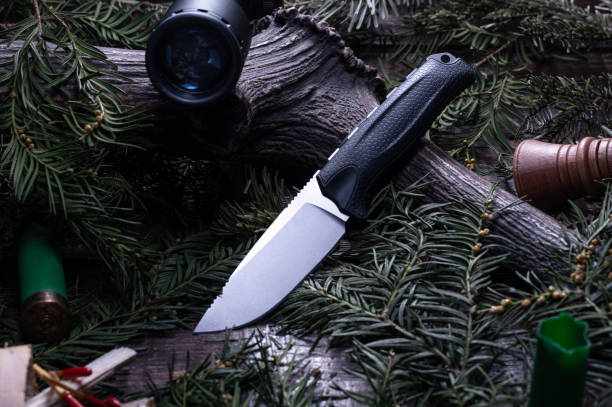knife: (189, 50, 481, 335)
